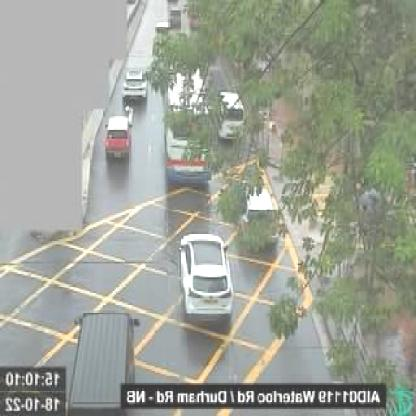Car: (67, 308, 133, 416), (179, 232, 234, 328), (216, 88, 247, 142), (103, 112, 134, 165), (120, 69, 149, 107)
